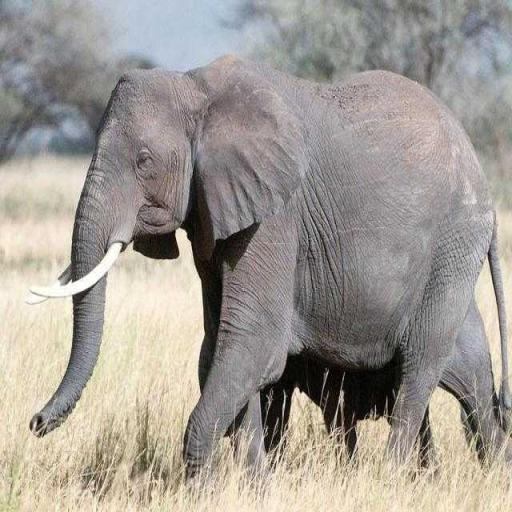Elephant: (25, 54, 510, 488)
